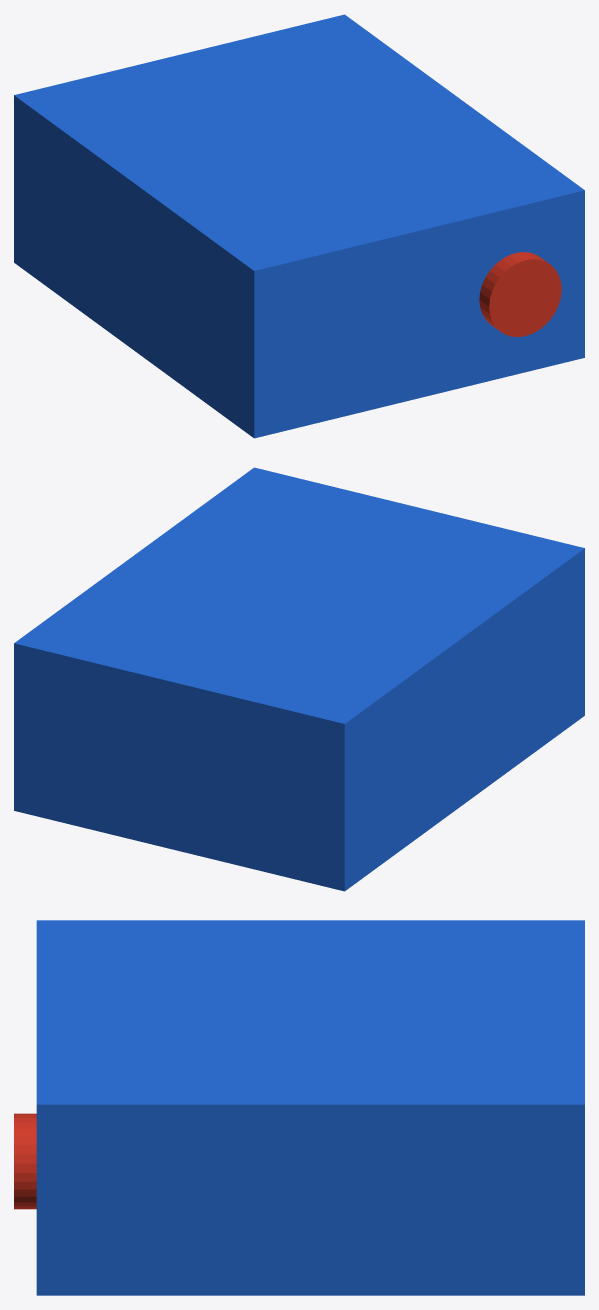
The model's file is chemsource-jerrycan.glb.
3 views of the same model, one above another, from view 1: azimuth 30°, elevation 25°; view 2: azimuth 150°, elevation 25°; view 3: azimuth 270°, elevation 25° (orthographic). The views are drawn at different scales.
Parts seen in each view (by area): view 1: Chemical_Jerrycan, Cap; view 2: Chemical_Jerrycan; view 3: Chemical_Jerrycan, Cap.
Boxes of the visible parts, x1,y1,x2,y2 form: Chemical_Jerrycan: [14, 14, 584, 438]; Cap: [479, 252, 561, 336]; Chemical_Jerrycan: [14, 467, 584, 891]; Chemical_Jerrycan: [36, 920, 584, 1295]; Cap: [14, 1113, 36, 1209].
Bounding box in the file's own units: 1.55 × 0.75 × 2.03.
